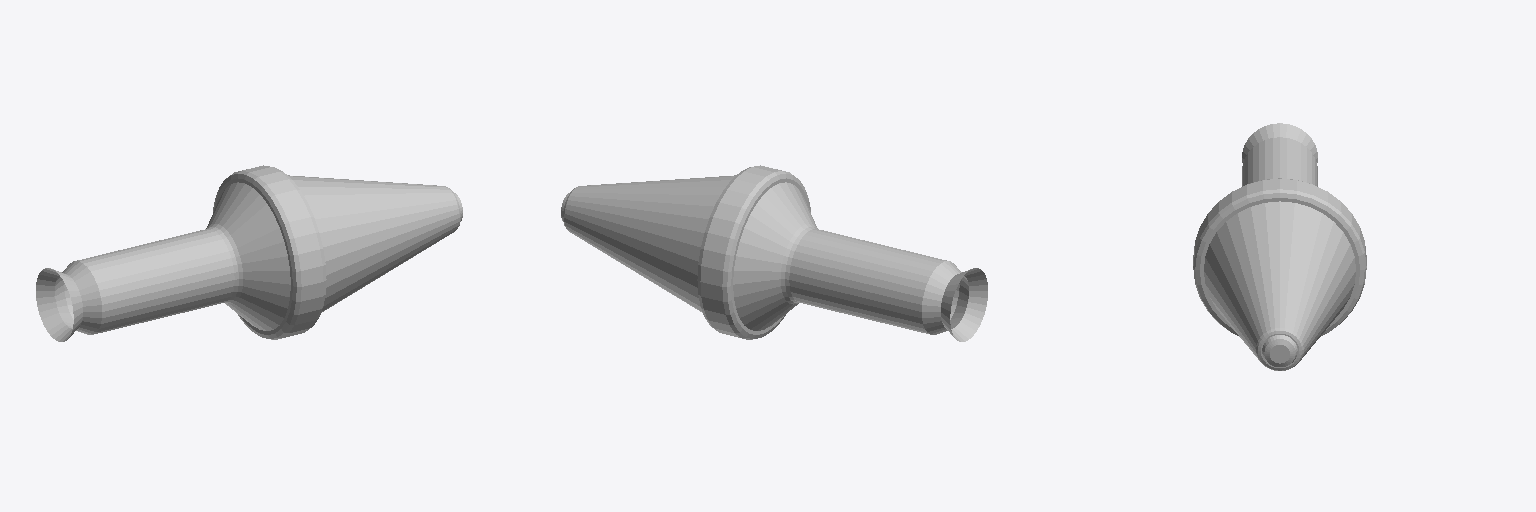
File: rocket.obj
3 views of the same model, side by side, from view 1: azimuth 30°, elevation 25°; view 2: azimuth 150°, elevation 25°; view 3: azimuth 270°, elevation 25° (orthographic).
Visible parts, largest first — view 1: Cylinder; view 2: Cylinder; view 3: Cylinder.
Boxes of the visible parts, box(x1,y1,x2,y2) form: Cylinder: box(36, 165, 462, 341); Cylinder: box(561, 165, 987, 341); Cylinder: box(1193, 123, 1366, 370).
Size of the model in its own units: 12.2 by 4.55 by 4.55.